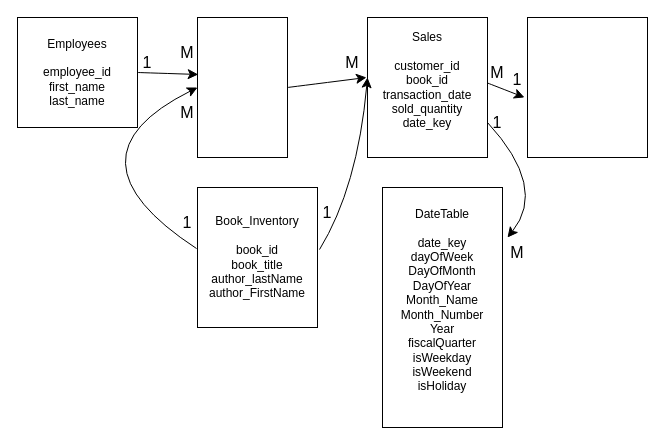
The diagram is 665 pixels wide and 445 high, and some of its shapes have lost their labels. The centre of each missing label's shape, as x and y in pixels:
"Book_orders employee_id book_id order_date seller_id order_quantity" belongs at point (242, 87).
"Customers customer_id" belongs at point (587, 87).
